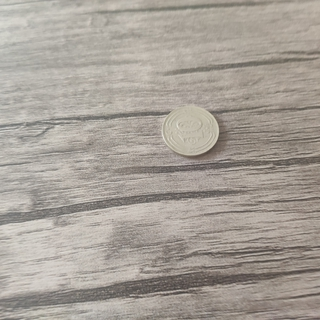10KURUS: (160, 104, 221, 159)
